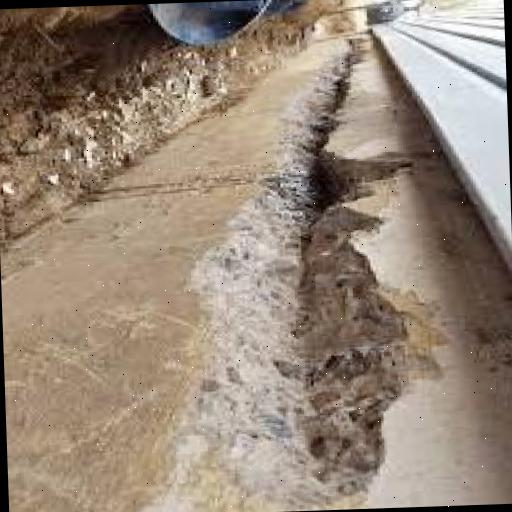spalling: (216, 91, 405, 501)
